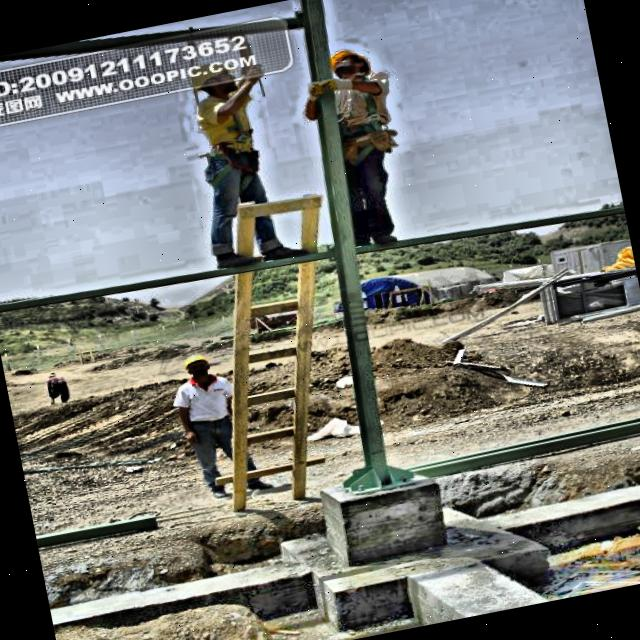helmet: (178, 58, 241, 106), (321, 43, 377, 94), (179, 350, 215, 384)
